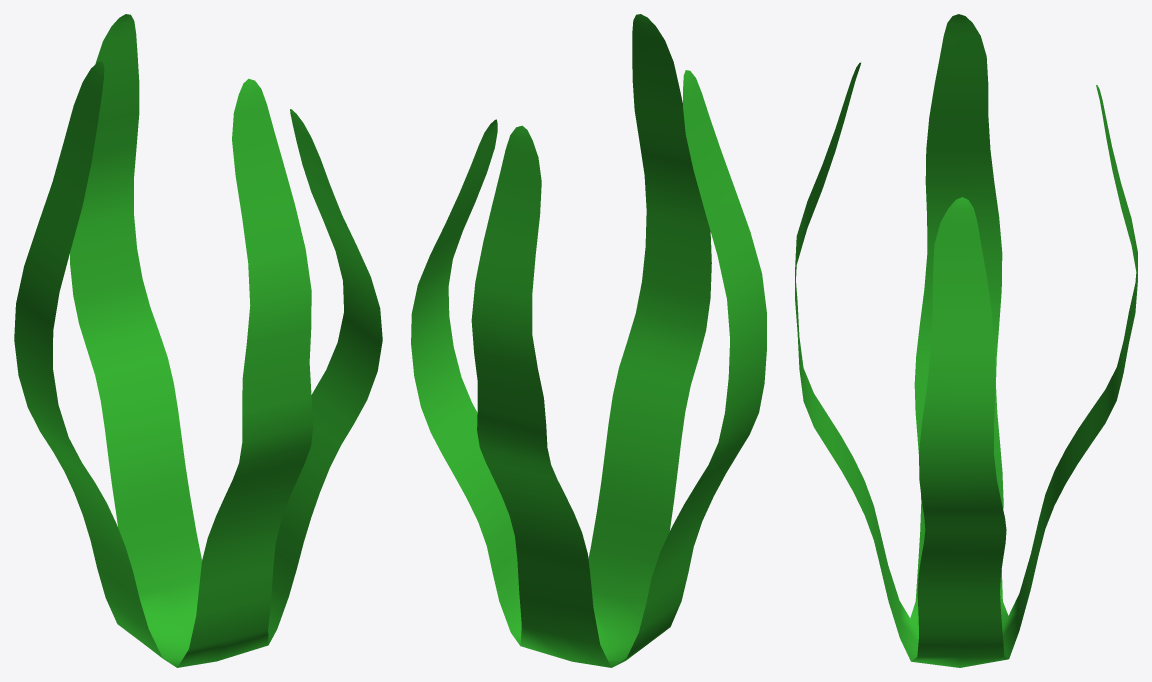
Rendered from seaweed4.fbx.
3 renders of one model, left to right at view 1: azimuth 30°, elevation 25°; view 2: azimuth 150°, elevation 25°; view 3: azimuth 270°, elevation 25°, orthographic. The views are drawn at different scales.
Parts seen in each view (by area): view 1: Seaweed4; view 2: Seaweed4; view 3: Seaweed4.
Boxes of the visible parts, x1,y1,x2,y2 form: Seaweed4: [14, 14, 382, 667]; Seaweed4: [411, 14, 766, 667]; Seaweed4: [795, 14, 1137, 667].
Size of the model in its own units: 17.98 by 32.72 by 16.95.
